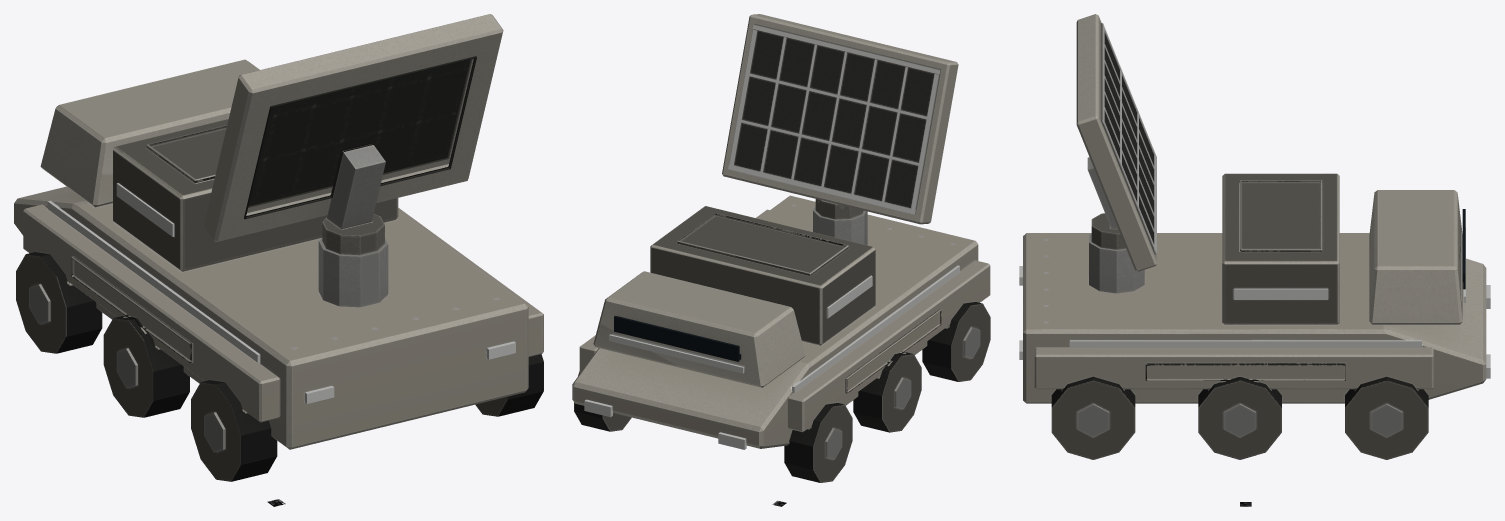
The model's file is ord_arbiter.fbx.
3 views of the same model, side by side, from view 1: azimuth 30°, elevation 25°; view 2: azimuth 150°, elevation 25°; view 3: azimuth 270°, elevation 25° (orthographic). The views are drawn at different scales.
Parts seen in each view (by area): view 1: base_bar, dish_bar, base_glow_running_bar; view 2: base_bar, dish_bar, dish_glow_running_bar, base_glow_running_bar, base_glow_head_bar; view 3: base_bar, dish_bar, base_glow_running_bar, dish_glow_running_bar.
Boxes of the visible parts, x1=… form: base_bar: x1=14, y1=59, x2=543, y2=481; dish_bar: x1=203, y1=14, x2=503, y2=255; base_glow_running_bar: x1=47, y1=183, x2=515, y2=403; base_bar: x1=572, y1=195, x2=990, y2=482; dish_bar: x1=722, y1=14, x2=958, y2=224; dish_glow_running_bar: x1=728, y1=24, x2=940, y2=214; base_glow_running_bar: x1=609, y1=265, x2=959, y2=393; base_glow_head_bar: x1=584, y1=399, x2=746, y2=449; base_bar: x1=1023, y1=173, x2=1486, y2=459; dish_bar: x1=1076, y1=14, x2=1156, y2=271; base_glow_running_bar: x1=1019, y1=227, x2=1465, y2=359; dish_glow_running_bar: x1=1102, y1=23, x2=1156, y2=253.
Size of the model in its own units: 508 by 826 by 803.
2 materials, 2 textured.
